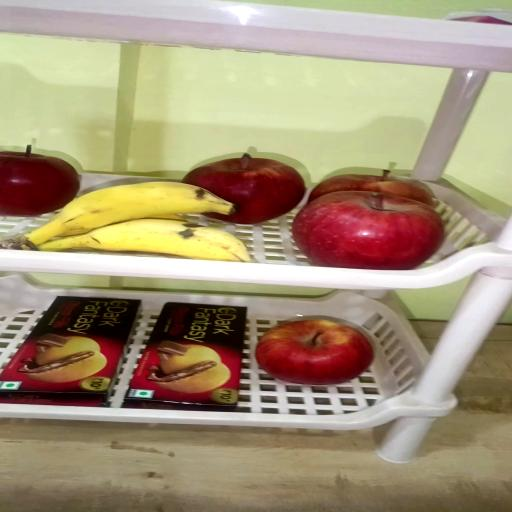Apple: (292, 192, 444, 272), (184, 156, 307, 226), (256, 318, 374, 386), (0, 144, 81, 216), (307, 172, 436, 209)
Choco Fills: (0, 295, 142, 407), (126, 303, 247, 411)
